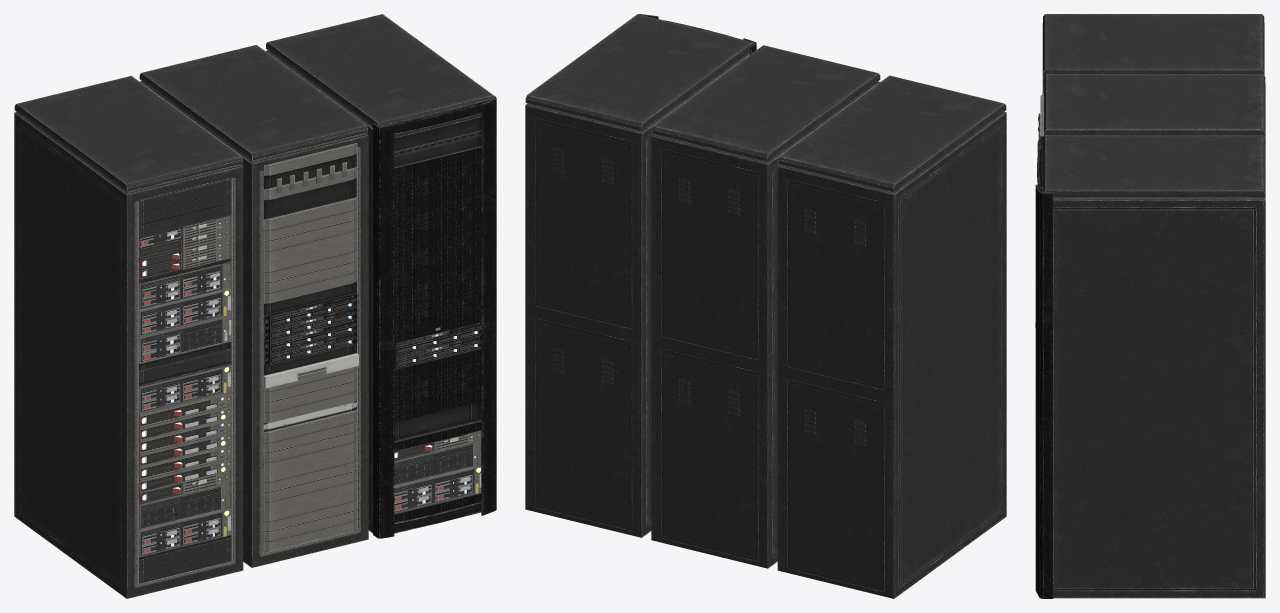
Rendered from Room1.fbx_机箱.fbx.
3 views of the same model, side by side, from view 1: azimuth 30°, elevation 25°; view 2: azimuth 150°, elevation 25°; view 3: azimuth 270°, elevation 25° (orthographic).
Visible parts, largest first — view 1: LODGroup_1_MainMesh_3_SubMesh_1.011, LODGroup_1_MainMesh_2_SubMesh_1.017, sm23_005_serverracks01a_00md, LODGroup_1_MainMesh_5_SubMesh_1.008; view 2: LODGroup_1_MainMesh_3_SubMesh_1.011, sm23_005_serverracks01a_00md, LODGroup_1_MainMesh_2_SubMesh_1.017; view 3: sm23_005_serverracks01a_00md, LODGroup_1_MainMesh_2_SubMesh_1.017, LODGroup_1_MainMesh_3_SubMesh_1.011, LODGroup_1_MainMesh_5_SubMesh_1.008.
Boxes of the visible parts, x1=… form: LODGroup_1_MainMesh_3_SubMesh_1.011: x1=14, y1=76, x2=243, y2=598; LODGroup_1_MainMesh_2_SubMesh_1.017: x1=139, y1=45, x2=368, y2=567; sm23_005_serverracks01a_00md: x1=265, y1=14, x2=494, y2=533; LODGroup_1_MainMesh_5_SubMesh_1.008: x1=373, y1=95, x2=496, y2=538; LODGroup_1_MainMesh_3_SubMesh_1.011: x1=777, y1=75, x2=1006, y2=598; sm23_005_serverracks01a_00md: x1=525, y1=14, x2=753, y2=537; LODGroup_1_MainMesh_2_SubMesh_1.017: x1=651, y1=45, x2=880, y2=568; sm23_005_serverracks01a_00md: x1=1042, y1=135, x2=1265, y2=598; LODGroup_1_MainMesh_2_SubMesh_1.017: x1=1038, y1=74, x2=1265, y2=143; LODGroup_1_MainMesh_3_SubMesh_1.011: x1=1035, y1=14, x2=1264, y2=327; LODGroup_1_MainMesh_5_SubMesh_1.008: x1=1035, y1=136, x2=1053, y2=598.
Size of the model in its own units: 200 by 214 by 109.
